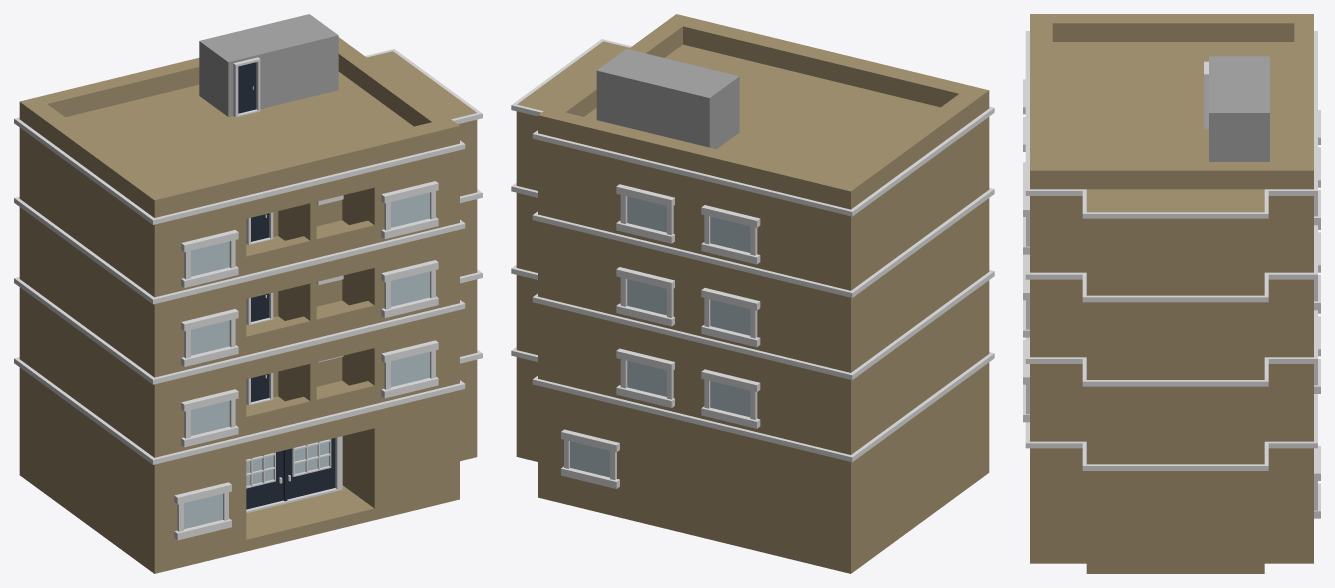
Rendered from Ip_apartment.fbx.
3 views of the same model, side by side, from view 1: azimuth 30°, elevation 25°; view 2: azimuth 150°, elevation 25°; view 3: azimuth 270°, elevation 25° (orthographic). The views are drawn at different scales.
Visible parts, largest first — view 1: pCube75; view 2: pCube75; view 3: pCube75.
Part boxes in pixels (x1,y1,x2,y2): pCube75: (14,14,482,573); pCube75: (511,14,994,573); pCube75: (1023,14,1320,573).
Bounding box in the file's own units: 14.38 × 15.82 × 9.89.
